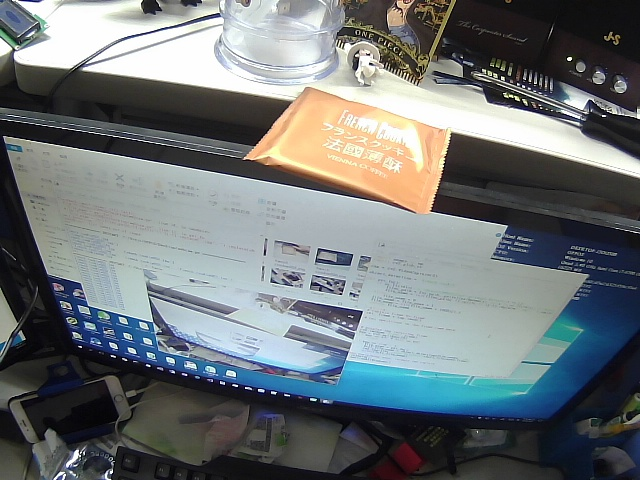frenchcookie: (237, 82, 449, 222)
